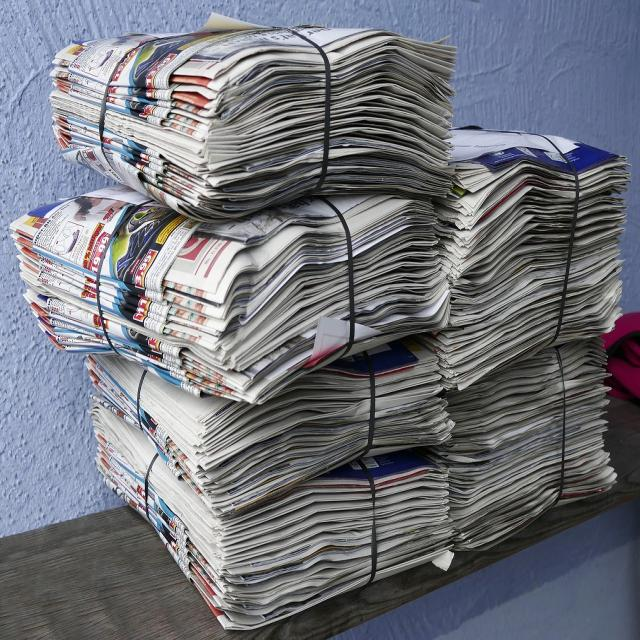PaperCardboard: (10, 23, 458, 633), (430, 130, 628, 548)
